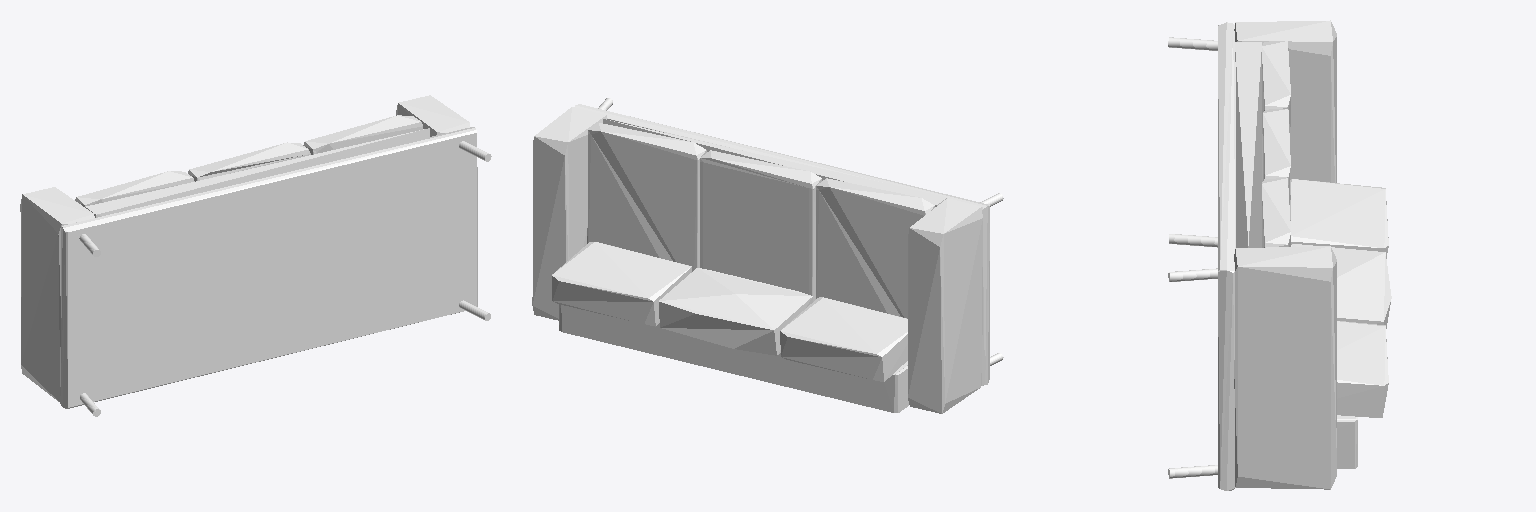
The robot description file, URDF, robot "simple_couch4.obj":
<robot name="simple_couch4.obj">
	<link name="_name">
		<visual>
			<origin xyz="0 0 0" rpy="0 0 0" />
			<geometry>
				<mesh filename="simple_couch4.obj" scale="1.0 1.0 1.0" />
			</geometry>
			<material name="texture">
				<color rgba="1.0 1.0 1.0 1.0" />
			</material>
		</visual>
		<collision>
			<geometry>
				<mesh filename="simple_couch4_vhacd.obj" scale="1.0 1.0 1.0" />
			</geometry>
		</collision>
		<inertial>
			<mass value="1.0" />
			<inertia ixx="1.0" ixy="0.0" ixz="0.0" iyy="1.0" iyz="0.0" izz="1.0" />
		</inertial>
	</link>
</robot>

--- Render facts (derived) ---
The picture shows the robot from 3 angles, left to right: view 1: azimuth 30°, elevation 25°; view 2: azimuth 150°, elevation 25°; view 3: azimuth 270°, elevation 25°; orthographic projection.
Robot: simple_couch4.obj — 1 links, 0 joints (none); root link _name; default pose: all joints at 0.
Links seen in each view (by area): view 1: _name; view 2: _name; view 3: _name.
Boxes of the visible links, box(x1,y1,x2,y2) form: _name: box(20, 95, 491, 416); _name: box(532, 98, 1003, 413); _name: box(1168, 20, 1391, 490).
Bounding box of the posed robot: 2 × 0.7612 × 0.8579 m (x, y, z).
1 mesh visuals loaded from 1 distinct referenced files (1 OBJ).